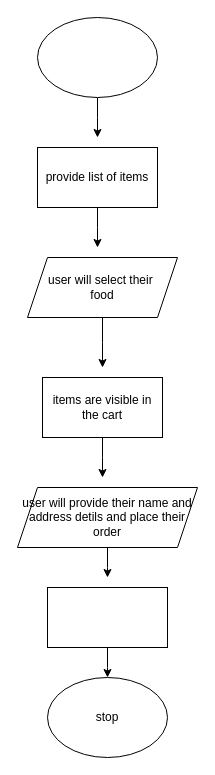
Some shapes in this 215 by 775 pixel diagram are drawn without their labels. Each missing label, with the centre of its shape:
order details will be displayed: point 107,617
start: point 97,57
